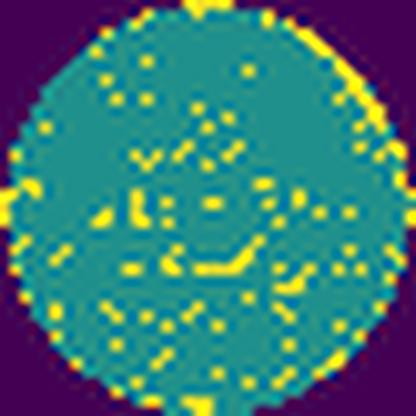Edge-Loc: (287, 13, 392, 137), (179, 0, 232, 24)
